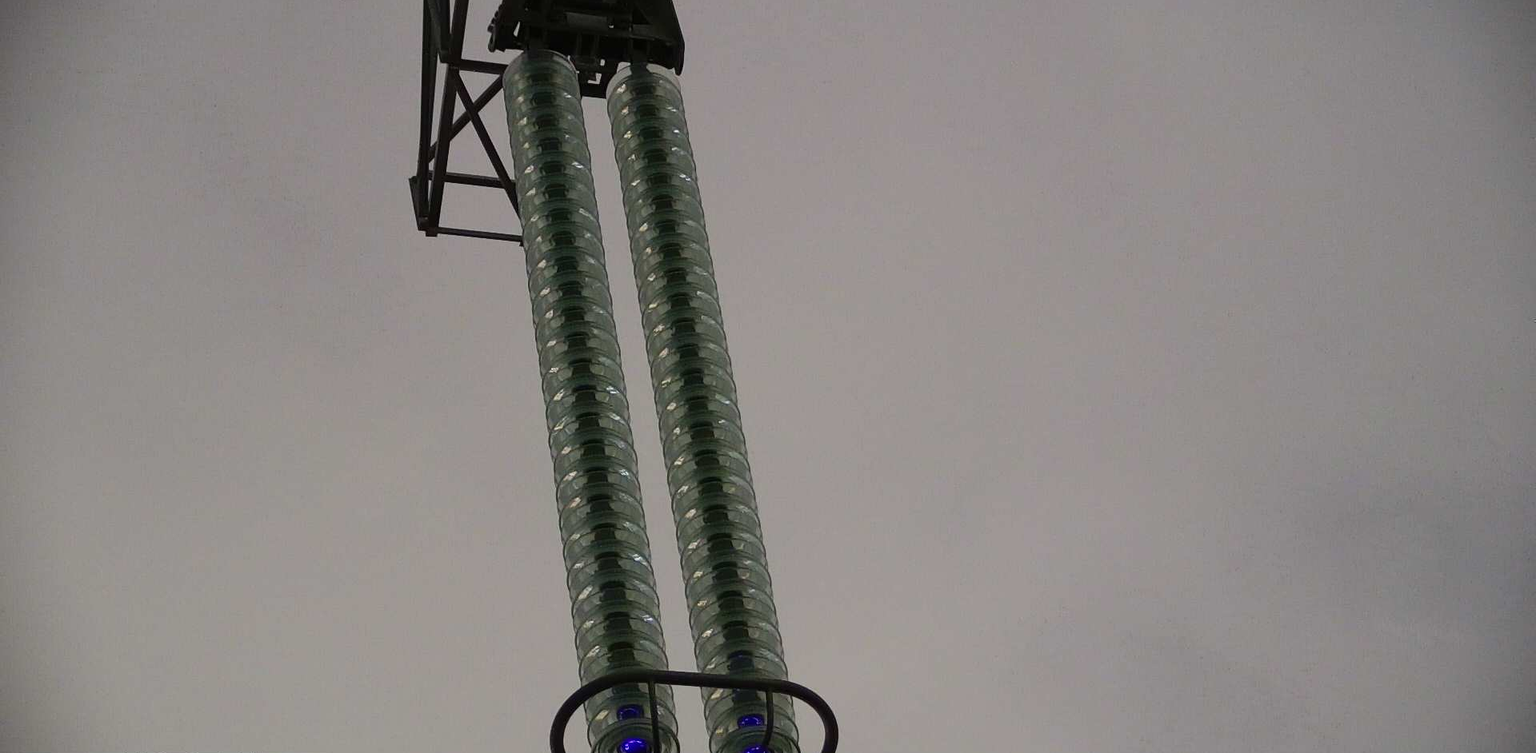绝缘子污闪: (620, 737, 648, 753), (618, 707, 640, 720), (740, 715, 762, 727), (746, 745, 766, 753), (732, 653, 743, 659)
